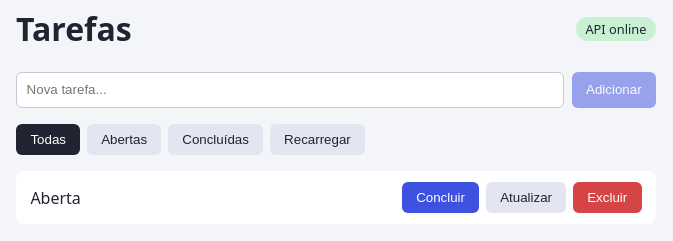
App › refreshes a task by id
This screenshot has width=673, height=241.
Click the button "Atualizar" at (526, 198), box left=486, top=182, right=566, bottom=213
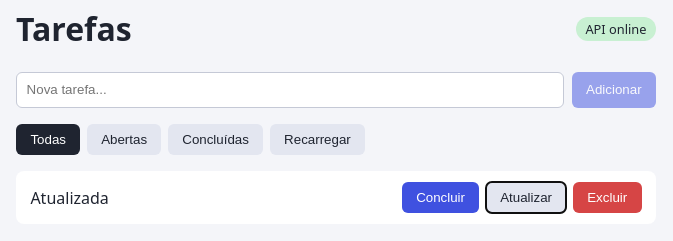
Now the text "Atualizada" is shown, box left=30, top=187, right=109, bottom=209
